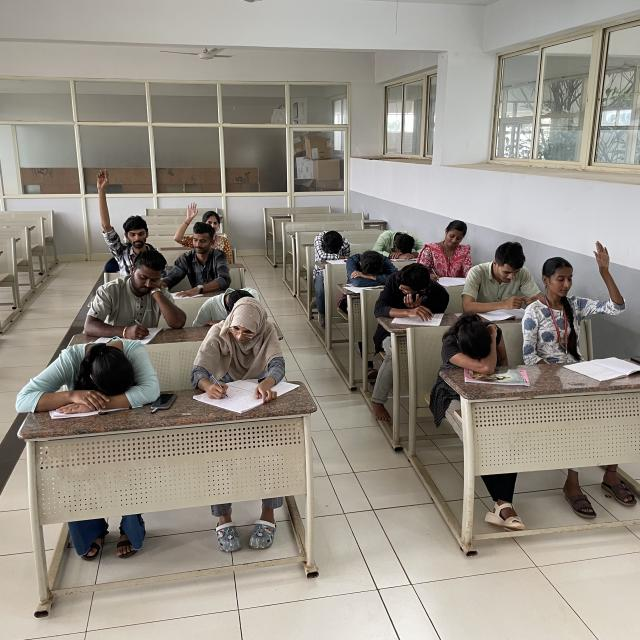Hand Rising: (526, 240, 628, 338), (93, 166, 157, 264), (173, 200, 233, 255)
Reading: (466, 243, 536, 319), (173, 224, 230, 299)
Sleeping: (438, 309, 512, 366), (195, 284, 257, 334), (344, 250, 398, 284), (376, 228, 424, 258), (314, 228, 352, 260)
Using Phone: (16, 336, 156, 422), (374, 263, 449, 322)
Writing: (199, 305, 291, 410), (86, 255, 182, 344), (420, 221, 478, 287)
